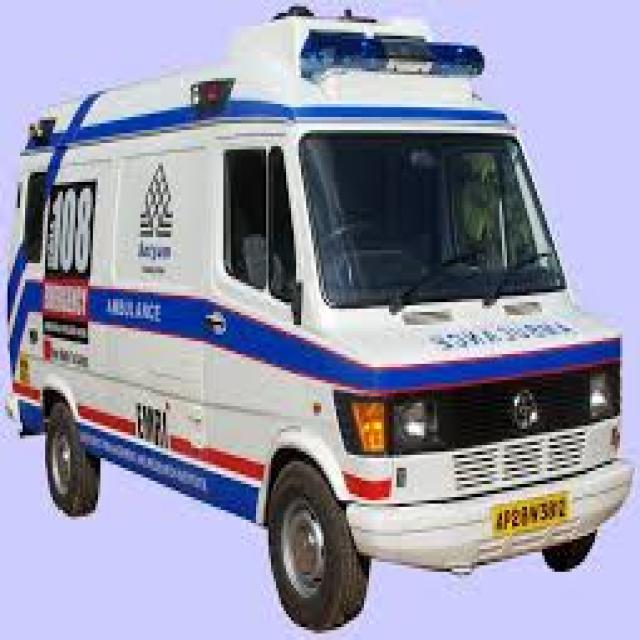Ambulance: (2, 6, 638, 637)
